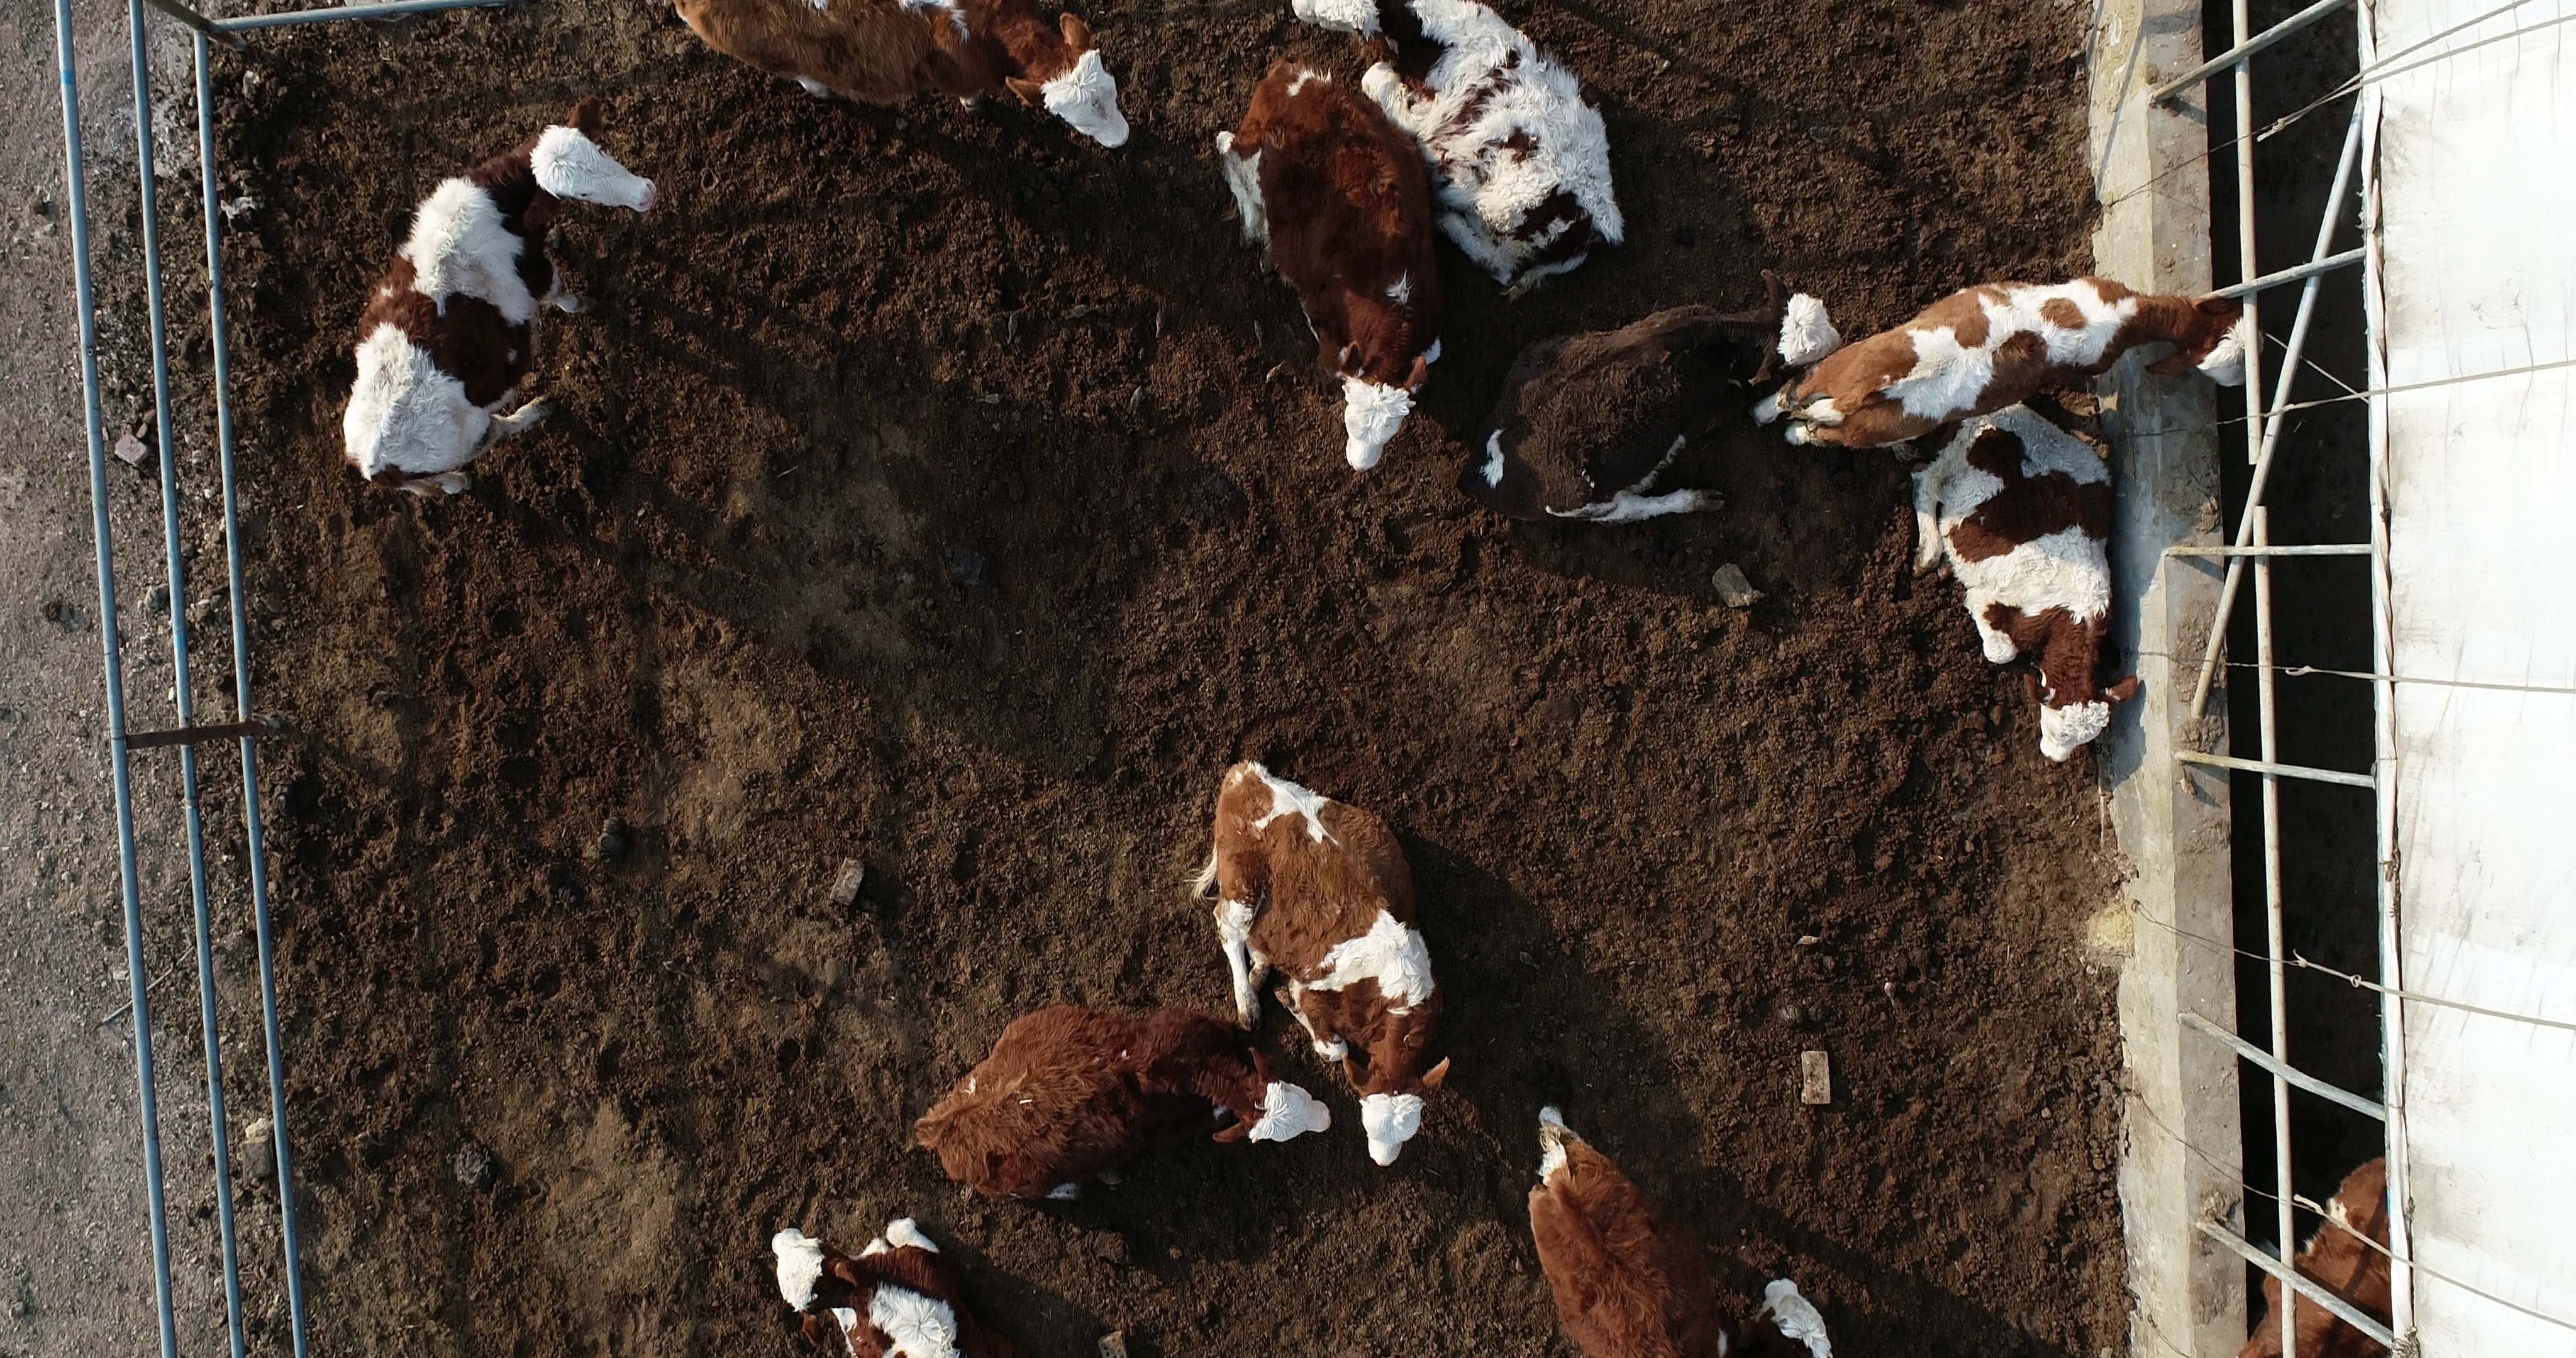cattle: (336, 92, 663, 508), (1182, 757, 1458, 1176), (1448, 264, 1842, 535), (1208, 51, 1450, 477), (1741, 271, 2269, 458)
